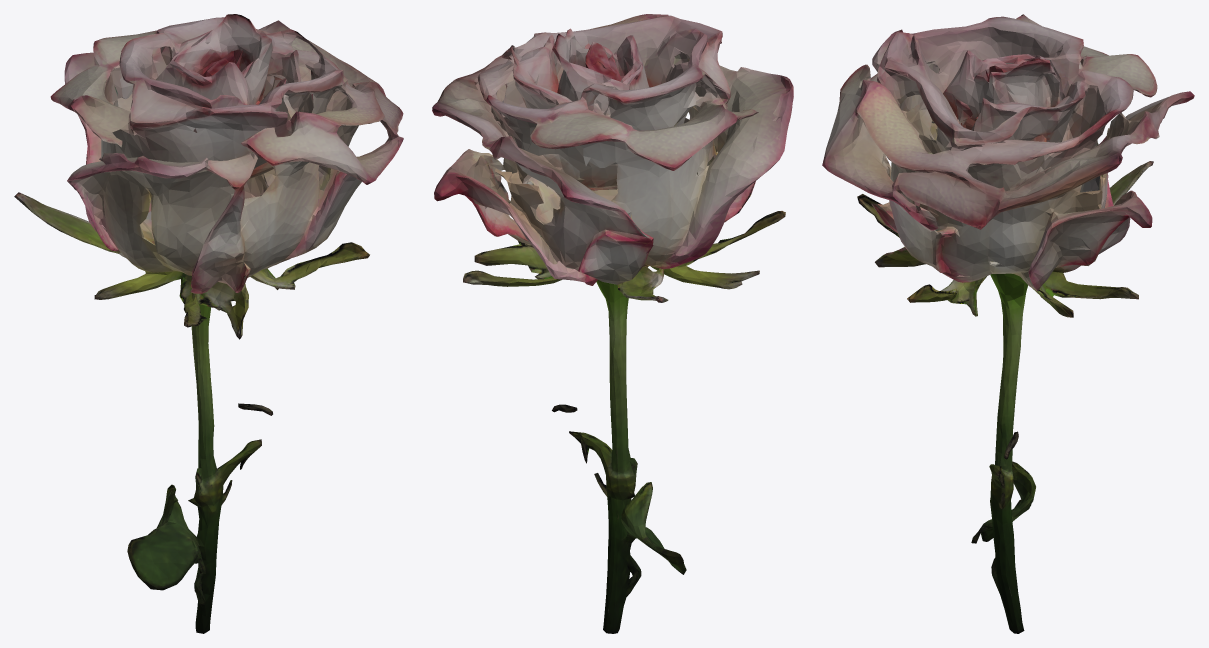
The picture shows the model from 3 angles, left to right: view 1: azimuth 30°, elevation 25°; view 2: azimuth 150°, elevation 25°; view 3: azimuth 270°, elevation 25°; orthographic projection.
Visible parts, largest first — view 1: world; view 2: world; view 3: world.
Boxes of the visible parts, box(x1,y1,x2,y2) form: world: box(14, 14, 403, 633); world: box(432, 14, 793, 633); world: box(822, 14, 1194, 633).
Bounding box in the file's own units: 0.5558 × 0.966 × 0.5487.
1 material, 1 textured.
